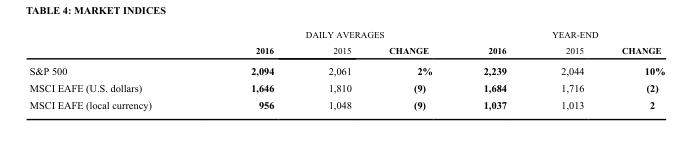table: (28, 29, 664, 110)
table column: (28, 29, 200, 110), (200, 29, 300, 110), (369, 29, 457, 110), (457, 29, 533, 110), (300, 29, 369, 110), (533, 29, 602, 110), (602, 29, 664, 110)
table column header: (28, 29, 664, 59)
table row: (28, 59, 664, 79), (28, 41, 664, 59), (28, 79, 664, 96), (28, 96, 664, 110), (28, 29, 664, 41)
table spanning cell: (200, 29, 457, 41), (457, 29, 664, 41)
